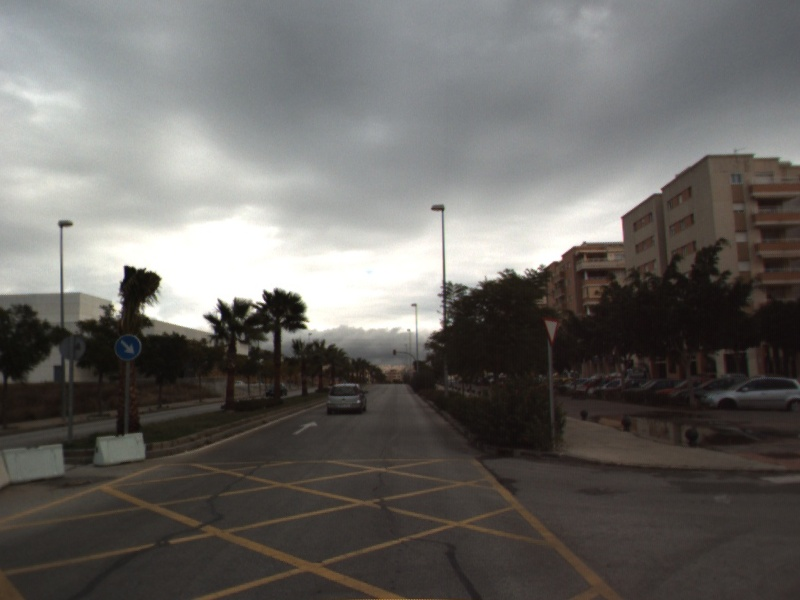STRAIGHT: (290, 419, 320, 437)
